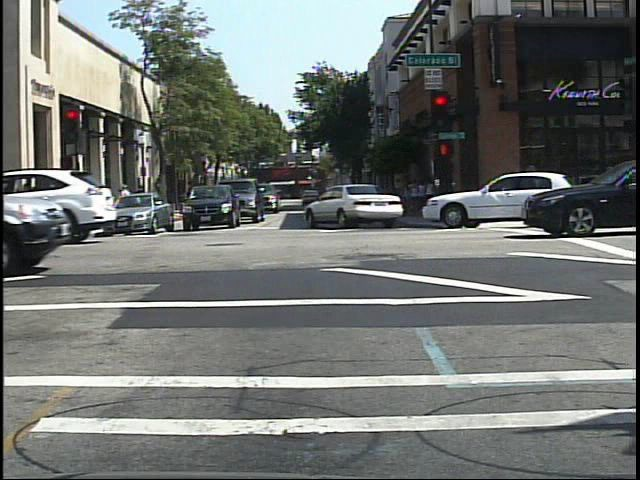person: (115, 181, 134, 219)
